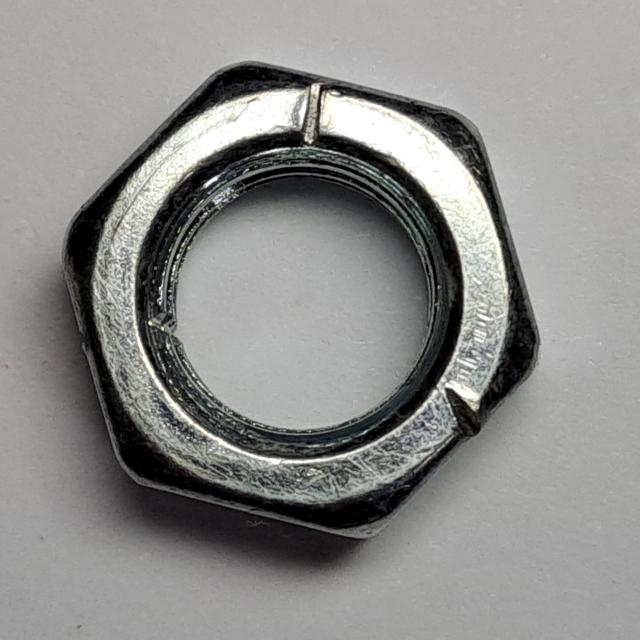Scratches: (49, 42, 566, 556)
